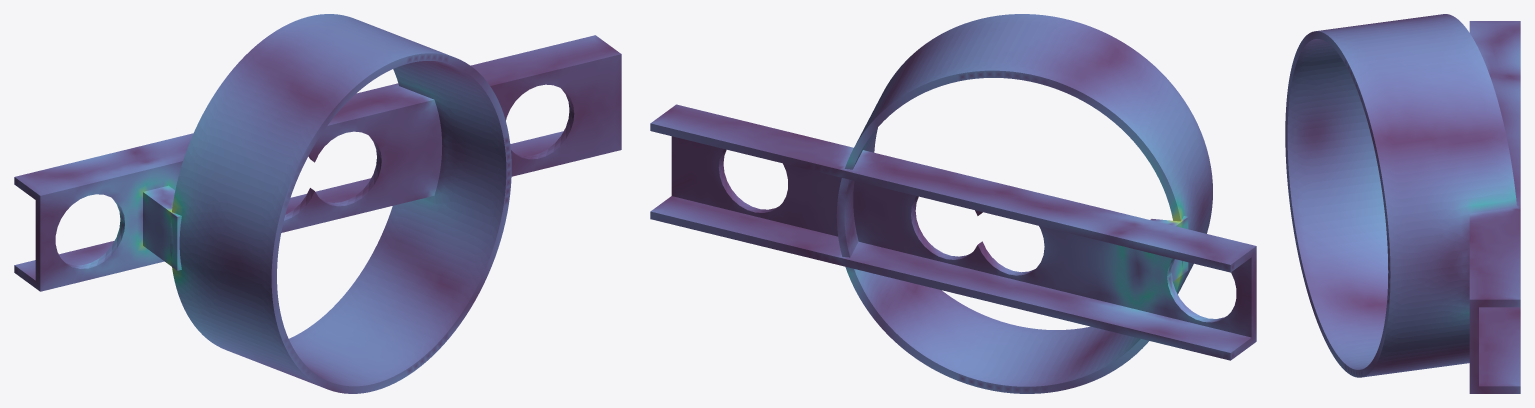
File: CAD_CH-CRADLE.glb
The picture shows the model from 3 angles, left to right: view 1: azimuth 30°, elevation 25°; view 2: azimuth 150°, elevation 25°; view 3: azimuth 270°, elevation 25°; orthographic projection.
Parts seen in each view (by area): view 1: geometry_0; view 2: geometry_0; view 3: geometry_0.
Part boxes in pixels (x1,y1,x2,y2): geometry_0: (14,14,621,393); geometry_0: (650,14,1256,393); geometry_0: (1285,14,1520,393).
Size of the model in its own units: 0.6341 by 0.336 by 0.2263.
